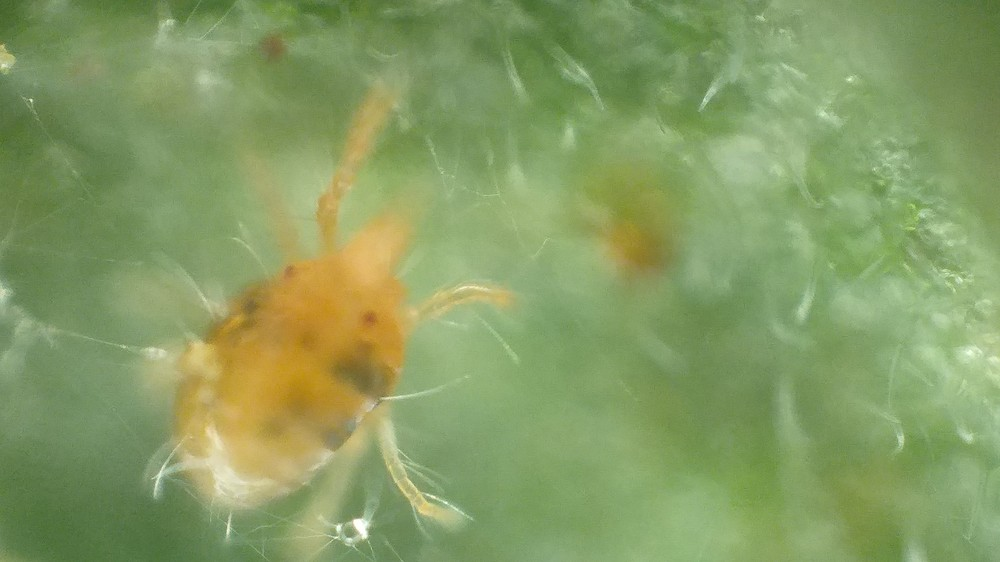Aracnido Rojo: (119, 90, 526, 554)
